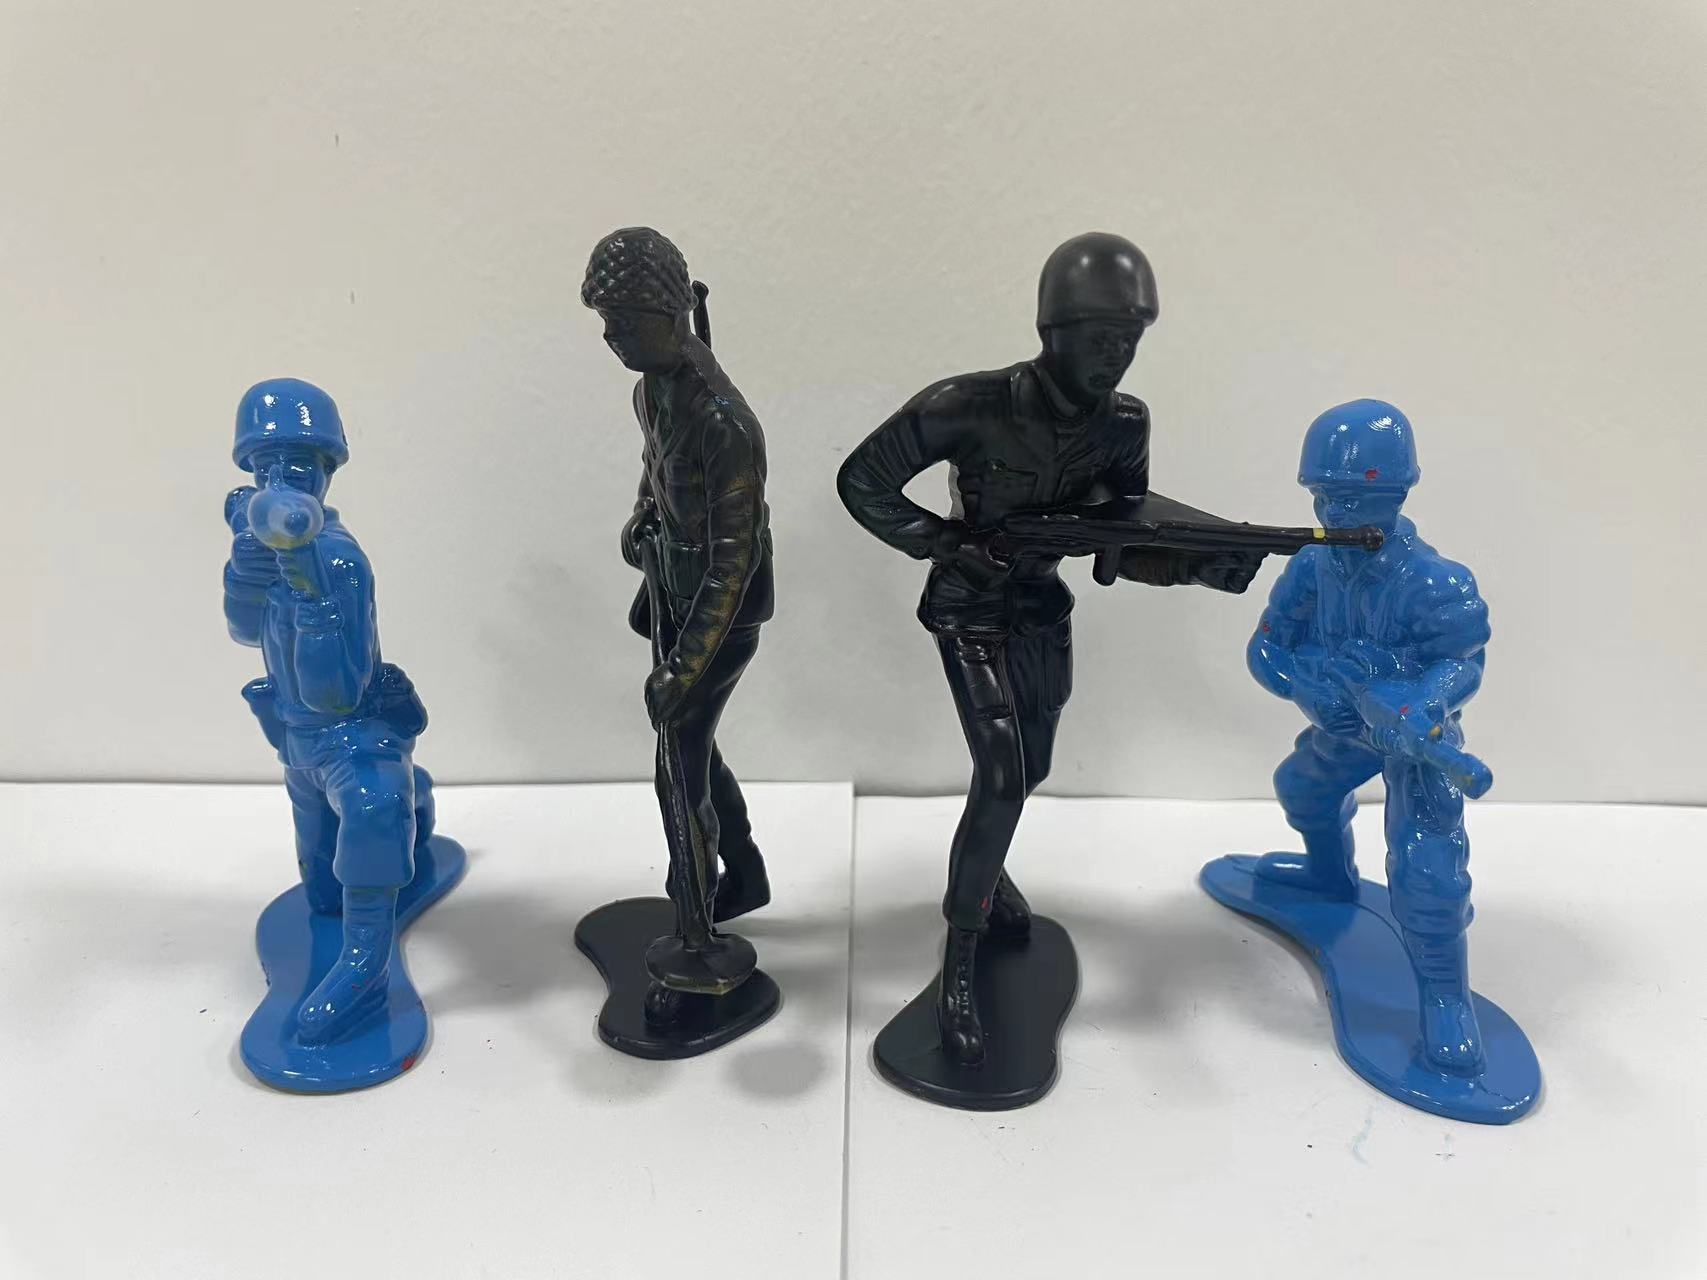black: (839, 208, 1286, 1124), (513, 208, 823, 1101)
blue: (1208, 374, 1586, 1144), (124, 360, 508, 1113)
